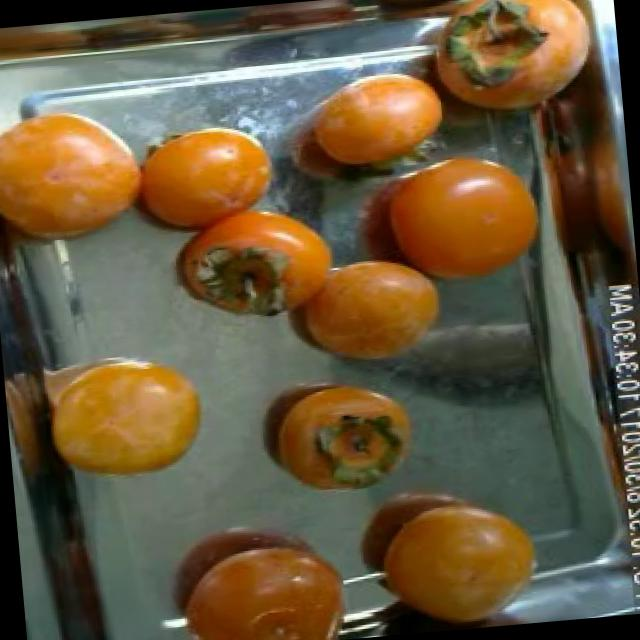Fruit: (338, 455, 560, 638), (14, 338, 224, 500), (348, 144, 560, 298), (151, 187, 360, 340), (145, 499, 370, 640), (242, 358, 434, 510), (0, 90, 164, 264), (112, 108, 300, 255), (270, 246, 464, 386), (271, 57, 466, 187)
